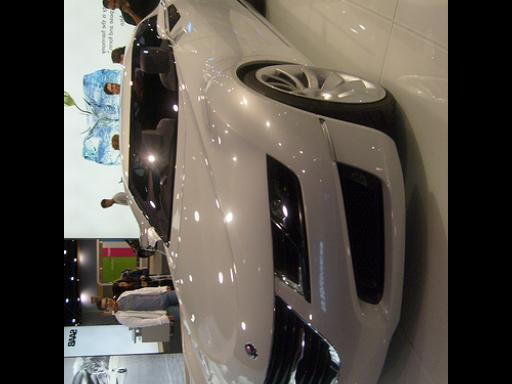Cheetah: (111, 0, 425, 384)
